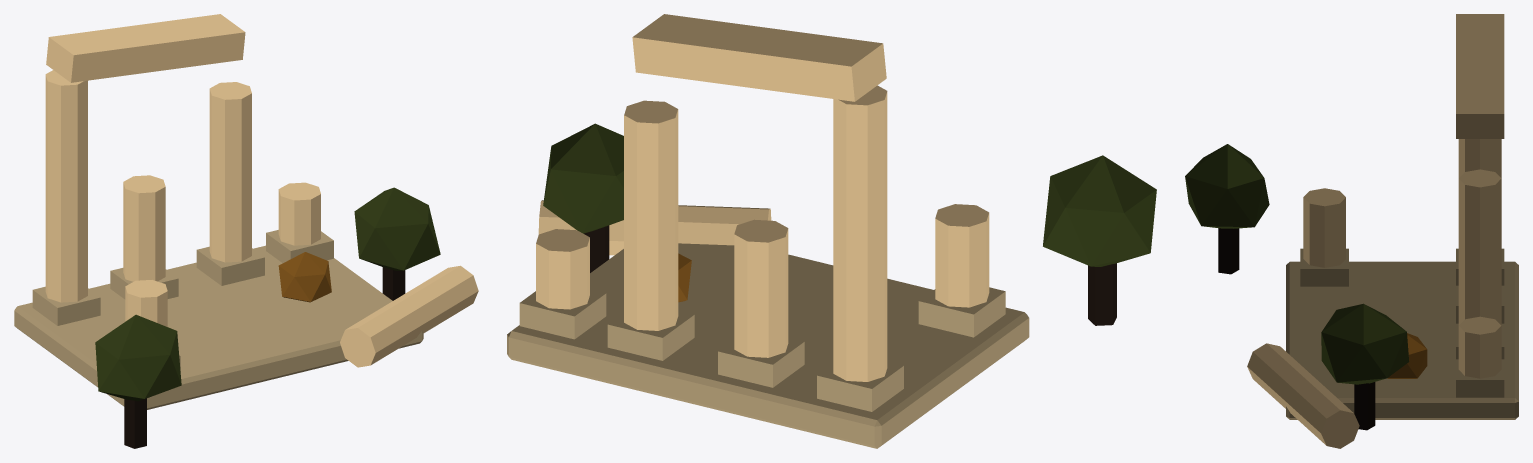
File: ruin.obj
The picture shows the model from 3 angles, left to right: view 1: azimuth 30°, elevation 25°; view 2: azimuth 150°, elevation 25°; view 3: azimuth 270°, elevation 25°; orthographic projection. The views are drawn at different scales.
Parts seen in each view (by area): view 1: core_white, core_stone, core_leaf, core_gold, core_wood_dark; view 2: core_white, core_stone, core_leaf, core_wood_dark; view 3: core_white, core_stone, core_leaf, core_wood_dark, core_gold.
Boxes of the visible parts, x1,y1,x2,y2 form: core_white: [45, 14, 478, 367]; core_stone: [14, 230, 423, 409]; core_leaf: [95, 187, 440, 401]; core_gold: [278, 252, 331, 302]; core_wood_dark: [124, 267, 405, 448]; core_white: [536, 14, 989, 381]; core_stone: [507, 243, 1029, 448]; core_leaf: [543, 123, 1156, 266]; core_wood_dark: [584, 225, 1116, 325]; core_white: [1247, 14, 1504, 448]; core_stone: [1286, 248, 1518, 419]; core_leaf: [1185, 144, 1409, 384]; core_wood_dark: [1218, 228, 1375, 430]; core_gold: [1387, 333, 1427, 378].
Size of the model in its own units: 0.4959 by 0.3203 by 0.3439.
